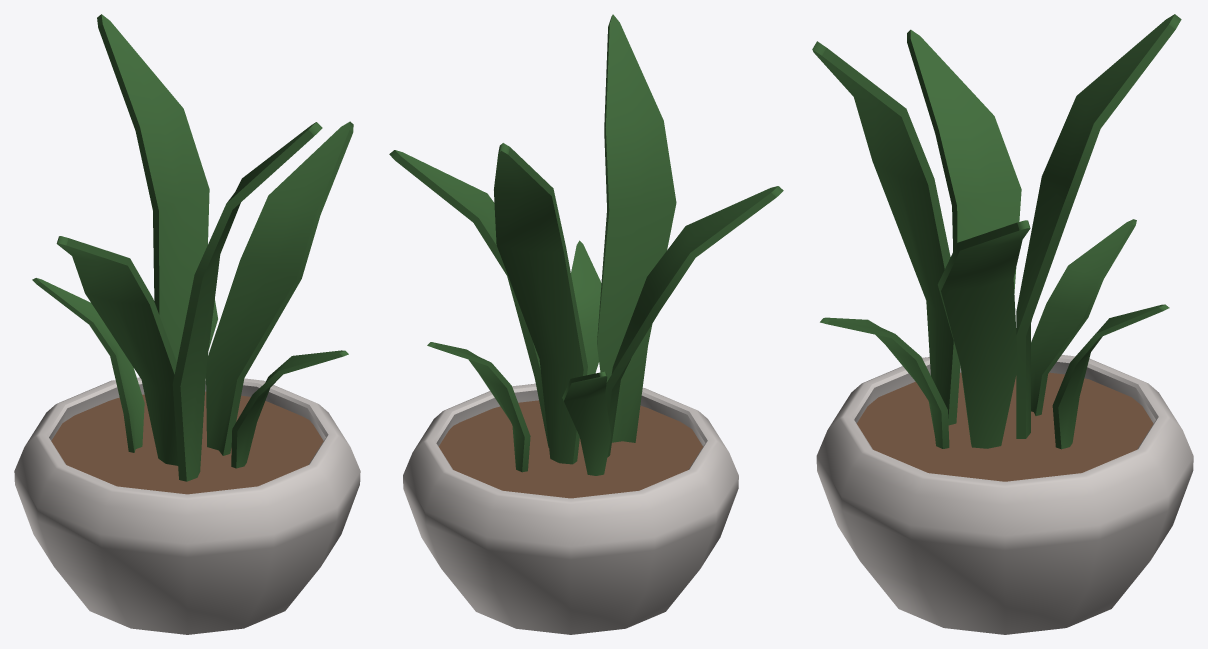
The model's file is Mesh_SnakePlant_01.fbx.
3 views of the same model, side by side, from view 1: azimuth 30°, elevation 25°; view 2: azimuth 150°, elevation 25°; view 3: azimuth 270°, elevation 25° (orthographic). The views are drawn at different scales.
Parts seen in each view (by area): view 1: Empty_pot1, Snake_plant_leaf1, Snake_plant_leaf, Dirt, Snake_plant_leaf2, Snake_plant_leaf5, Snake_plant_leaf4, Snake_plant_leaf3; view 2: Empty_pot1, Snake_plant_leaf5, Snake_plant_leaf, Dirt, Snake_plant_leaf2, Snake_plant_leaf1, Snake_plant_leaf4, Snake_plant_leaf6, Snake_plant_leaf3; view 3: Empty_pot1, Dirt, Snake_plant_leaf5, Snake_plant_leaf1, Snake_plant_leaf, Snake_plant_leaf2, Snake_plant_leaf4, Snake_plant_leaf6, Snake_plant_leaf3.
Boxes of the visible parts, bbox=[...] form: Empty_pot1: bbox=[14, 377, 360, 634]; Snake_plant_leaf1: bbox=[206, 121, 353, 455]; Snake_plant_leaf: bbox=[97, 14, 209, 361]; Dirt: bbox=[51, 391, 323, 494]; Snake_plant_leaf2: bbox=[56, 236, 177, 465]; Snake_plant_leaf5: bbox=[172, 122, 322, 481]; Snake_plant_leaf4: bbox=[32, 278, 144, 452]; Snake_plant_leaf3: bbox=[231, 350, 348, 468]; Empty_pot1: bbox=[403, 383, 738, 634]; Snake_plant_leaf5: bbox=[597, 14, 676, 442]; Snake_plant_leaf: bbox=[494, 143, 587, 464]; Dirt: bbox=[438, 400, 702, 498]; Snake_plant_leaf2: bbox=[605, 186, 783, 457]; Snake_plant_leaf1: bbox=[389, 150, 548, 447]; Snake_plant_leaf4: bbox=[562, 371, 611, 475]; Snake_plant_leaf6: bbox=[427, 342, 530, 472]; Snake_plant_leaf3: bbox=[571, 240, 601, 375]; Empty_pot1: bbox=[816, 355, 1193, 634]; Dirt: bbox=[856, 372, 1153, 481]; Snake_plant_leaf5: bbox=[812, 41, 960, 425]; Snake_plant_leaf1: bbox=[937, 220, 1030, 448]; Snake_plant_leaf: bbox=[1016, 14, 1181, 438]; Snake_plant_leaf2: bbox=[907, 29, 1021, 293]; Snake_plant_leaf4: bbox=[1031, 219, 1136, 415]; Snake_plant_leaf6: bbox=[1052, 304, 1169, 449]; Snake_plant_leaf3: bbox=[820, 317, 949, 448].
Bounding box in the file's own units: 60.79 × 85.73 × 52.49.
